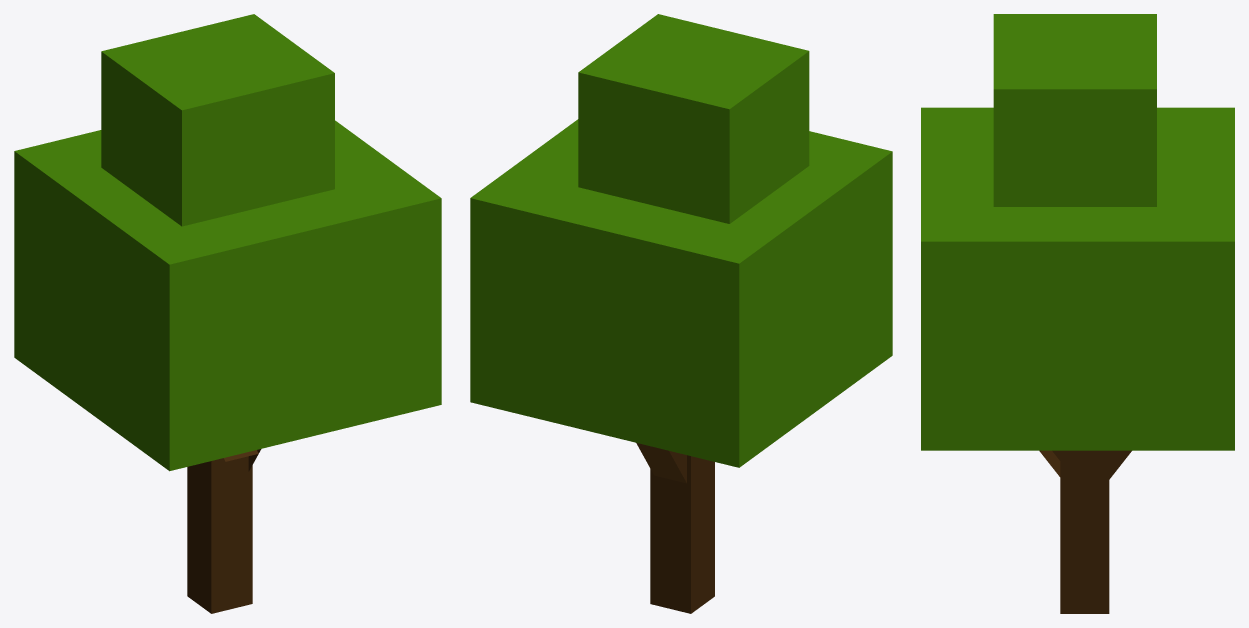
Rendered from tree5.fbx.
The picture shows the model from 3 angles, left to right: view 1: azimuth 30°, elevation 25°; view 2: azimuth 150°, elevation 25°; view 3: azimuth 270°, elevation 25°; orthographic projection. The views are drawn at different scales.
Parts seen in each view (by area): view 1: leves tree 5, trunk tree 5; view 2: leves tree 5, trunk tree 5; view 3: leves tree 5, trunk tree 5.
Part boxes in pixels (bbox=[...]): leves tree 5: bbox=[14, 14, 441, 471]; trunk tree 5: bbox=[187, 449, 261, 613]; leves tree 5: bbox=[470, 14, 892, 467]; trunk tree 5: bbox=[636, 443, 714, 613]; leves tree 5: bbox=[921, 14, 1234, 450]; trunk tree 5: bbox=[1039, 450, 1131, 613].
Size of the model in its own units: 470 by 895 by 464.
